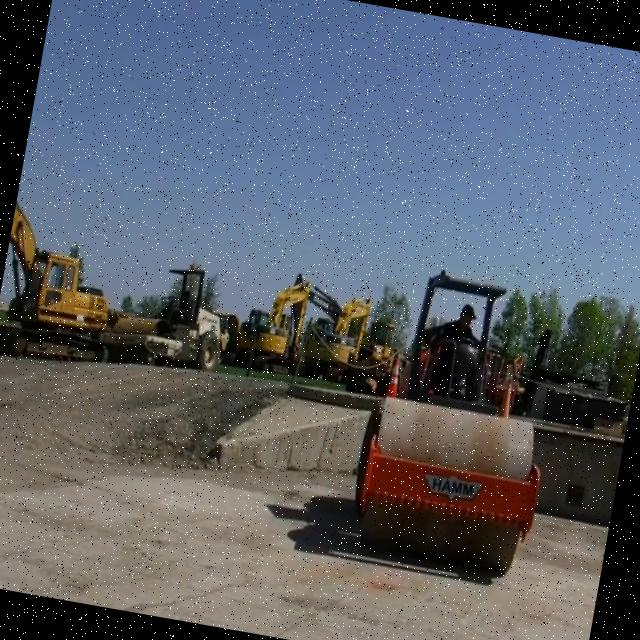Excavator: (0, 165, 108, 357), (175, 257, 249, 365)
Roller: (344, 260, 569, 576), (97, 280, 183, 370)
